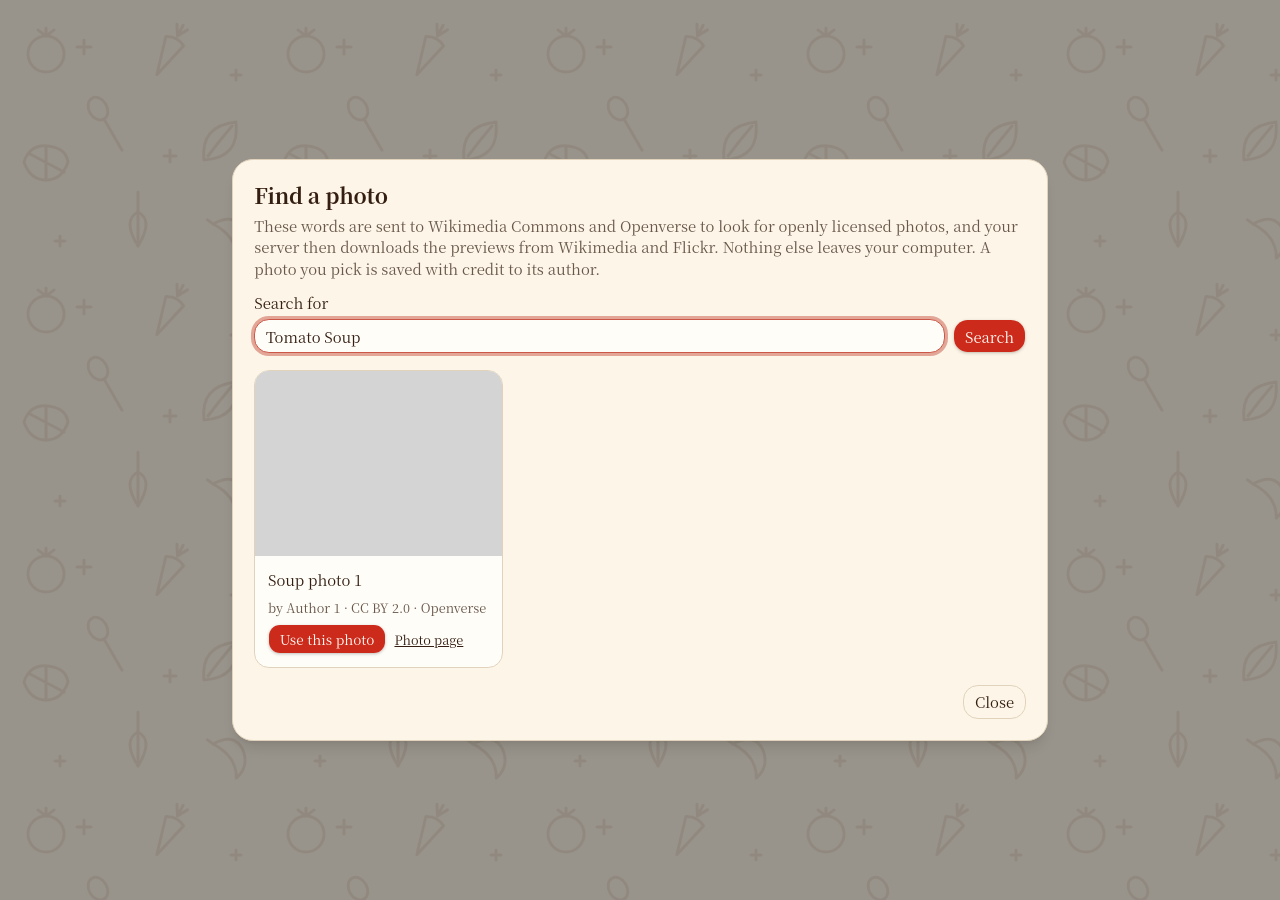
Test case: PhotoSearchDialog › searches again with other words
Expected: the text "Soup photo 1" is shown, top-left (268, 569), bottom-right (362, 590)
Replace the text in the field labelled "Search for" with "tomato basil soup": {"x": 600, "y": 336} top-left (254, 319), bottom-right (945, 353)
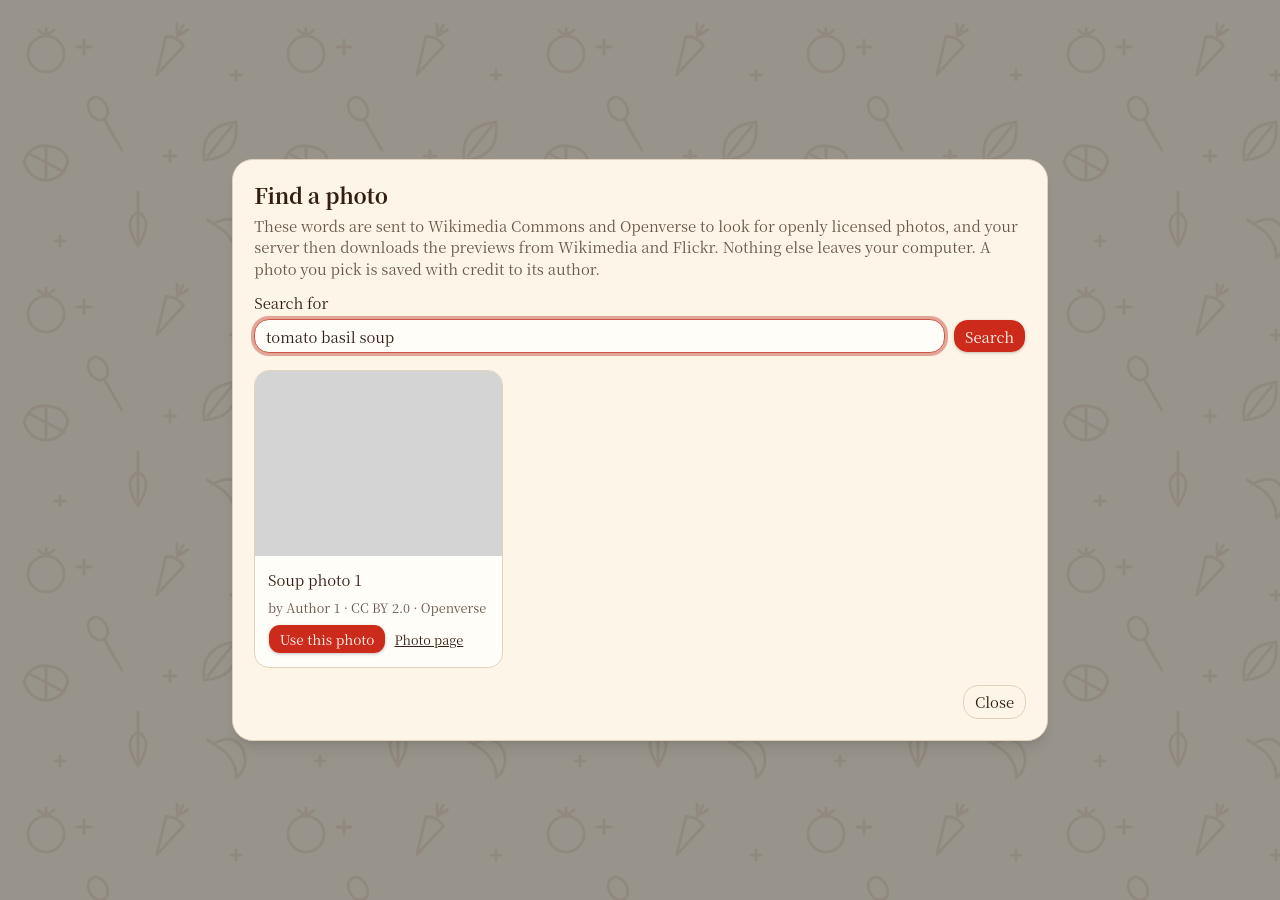
Click the button "Search": {"x": 990, "y": 336} top-left (954, 319), bottom-right (1026, 353)
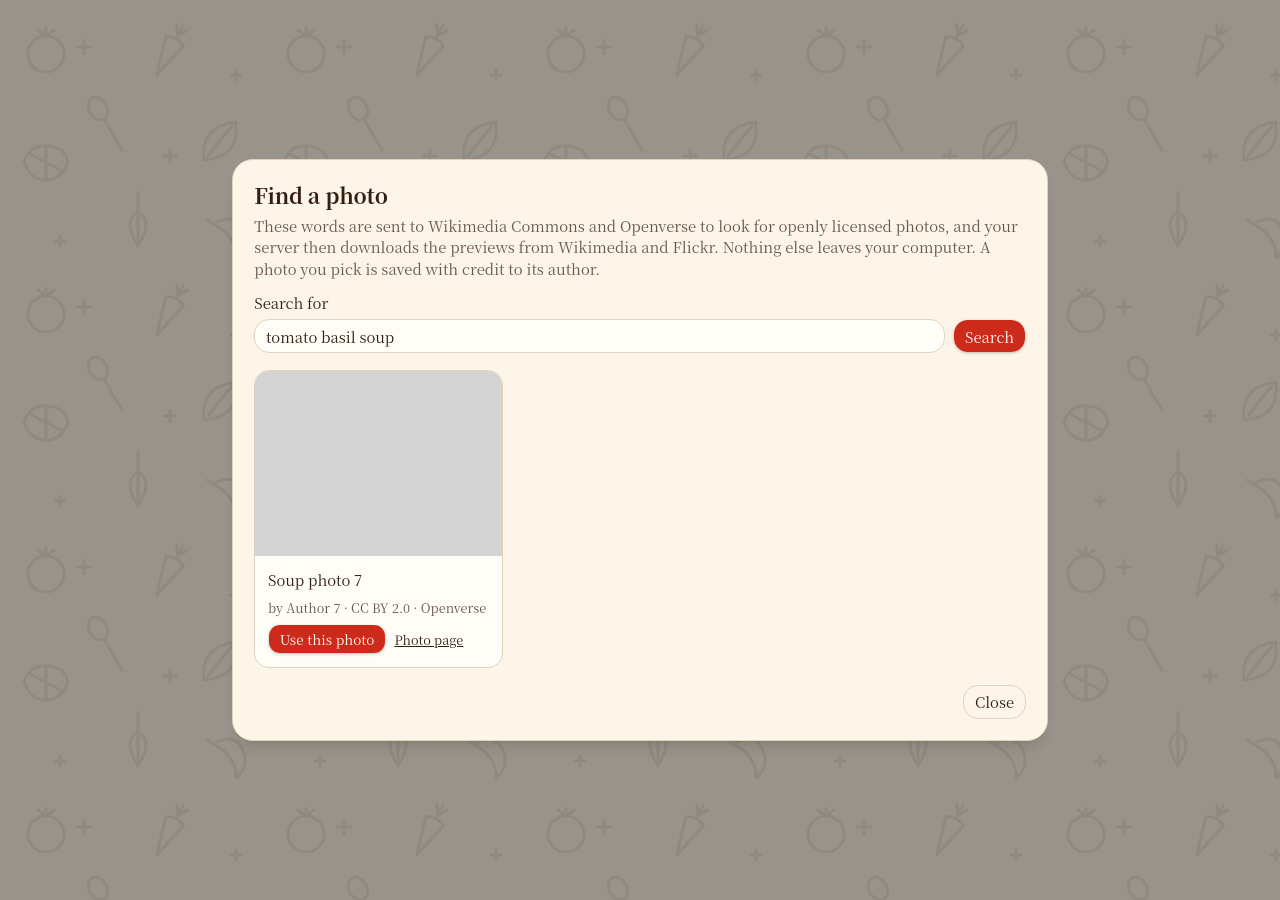
Result: the text "Soup photo 7" is shown at top-left (268, 569), bottom-right (362, 590)
Result: the text "Soup photo 1" is gone
